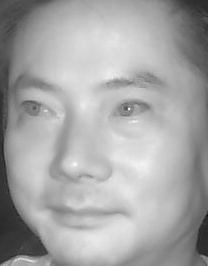eye: (110, 97, 155, 125), (17, 96, 59, 122)
mouth: (45, 194, 126, 234)
